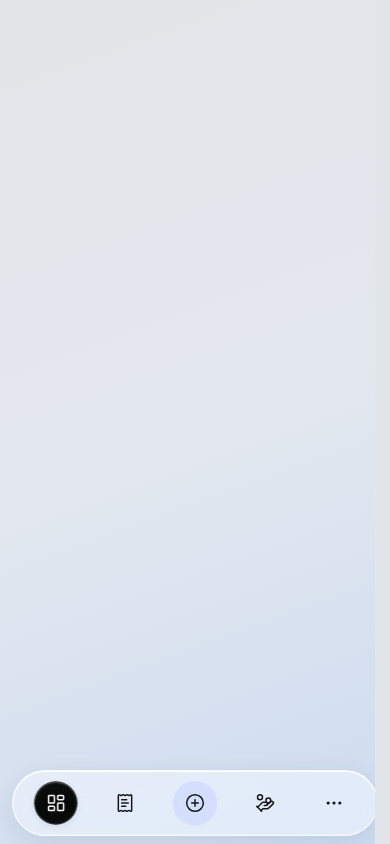
responsive navigation › exposes destinations and the separated final Log Out action through the mobile More sheet
Click the button named "More" at (334, 803), box [299,775,369,831]
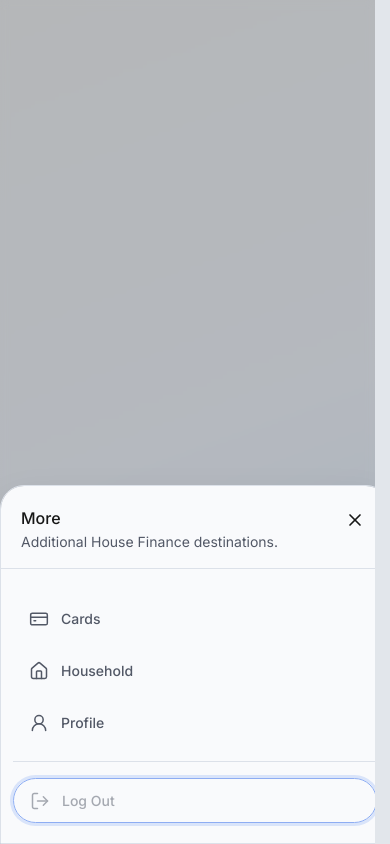
Now the dialog "More" is shown, box [0,485,389,843]
